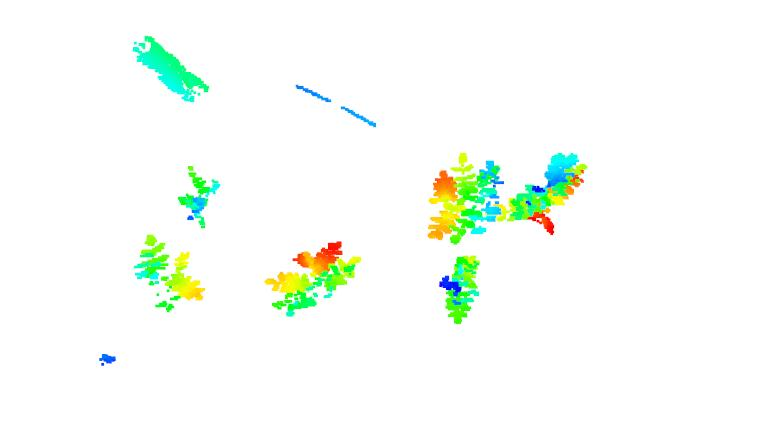chickpea: (424, 150, 506, 246), (265, 240, 359, 318), (503, 150, 590, 224), (134, 235, 206, 313), (440, 252, 487, 324), (178, 164, 219, 228)
